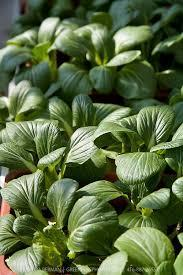Healthy-Pechay: (3, 4, 179, 263), (115, 61, 156, 102), (57, 63, 92, 101), (52, 28, 90, 61), (5, 247, 46, 273), (16, 87, 47, 121), (151, 32, 183, 63), (13, 214, 44, 244), (109, 0, 136, 31), (1, 51, 33, 73), (104, 50, 142, 67), (37, 146, 66, 168), (43, 165, 61, 193), (14, 29, 38, 46), (57, 256, 79, 274), (47, 49, 59, 81), (27, 0, 48, 17), (60, 17, 86, 29), (0, 96, 10, 120), (40, 206, 55, 220), (67, 250, 76, 260), (17, 209, 23, 215)
